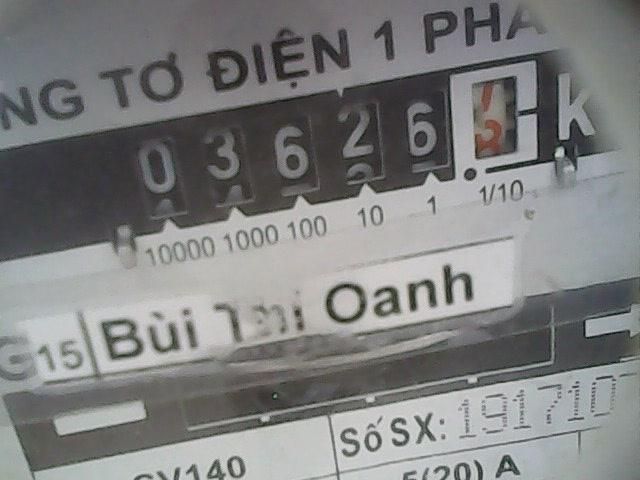phy_plate: (110, 53, 549, 224)
